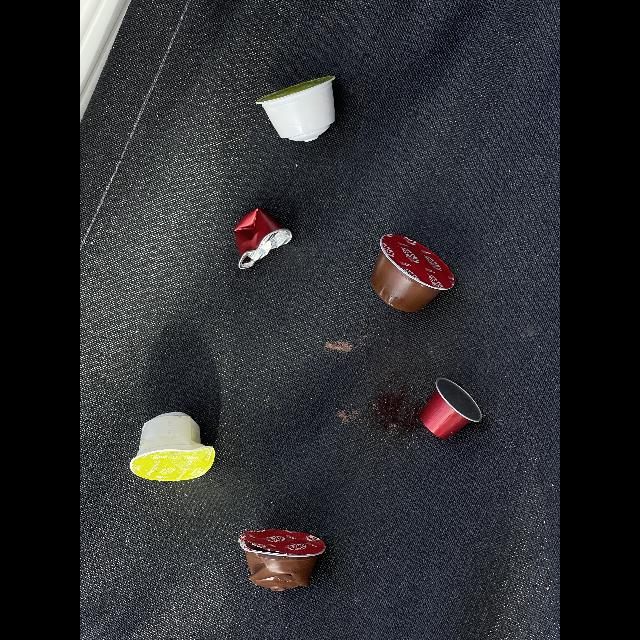damaged_capsule: (127, 406, 223, 490), (234, 522, 330, 598), (229, 197, 299, 279)
intact_capsule: (363, 225, 462, 317), (252, 70, 346, 152), (405, 375, 501, 443)
